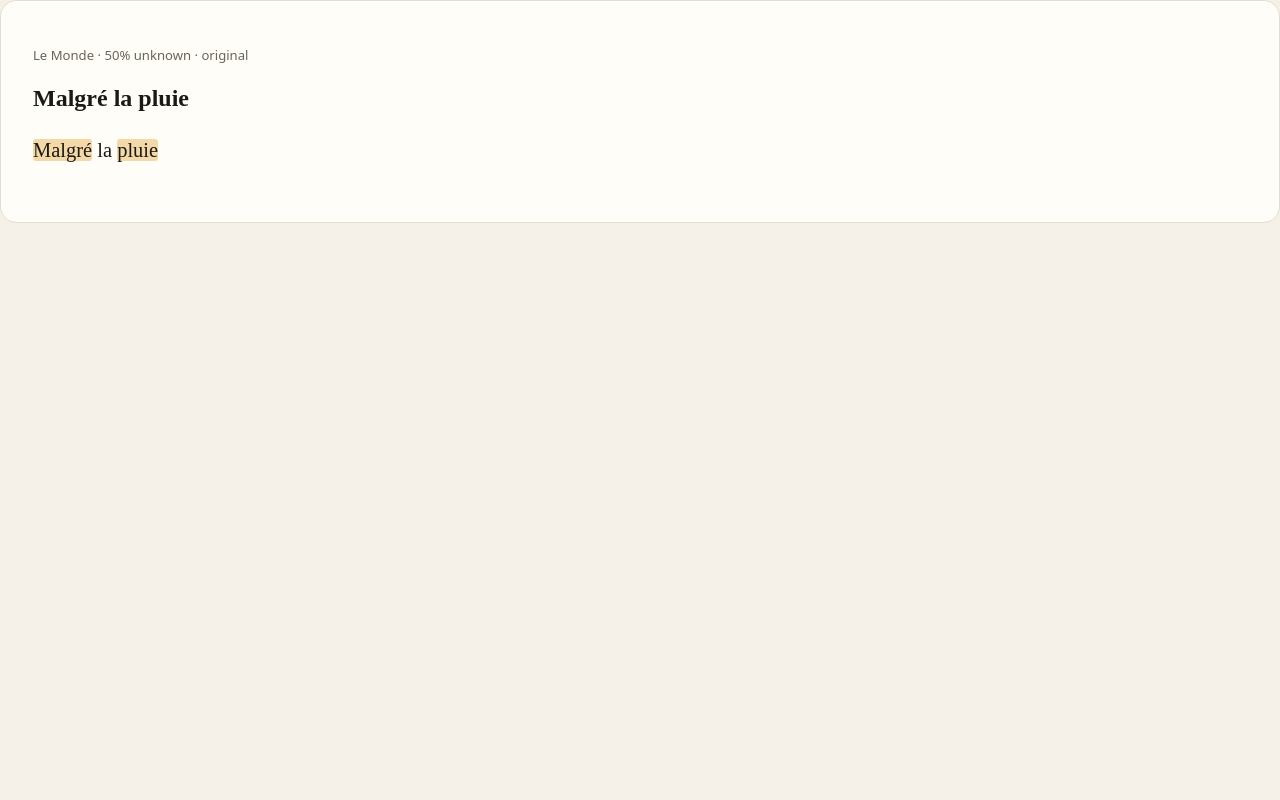
Test: the unknown percentage is refreshed after a save
Expected: the text "Le Monde · 50% unknown · original" is shown, [33, 46, 248, 64]
Click the text "Malgré" at (63, 150), box [33, 139, 92, 161]
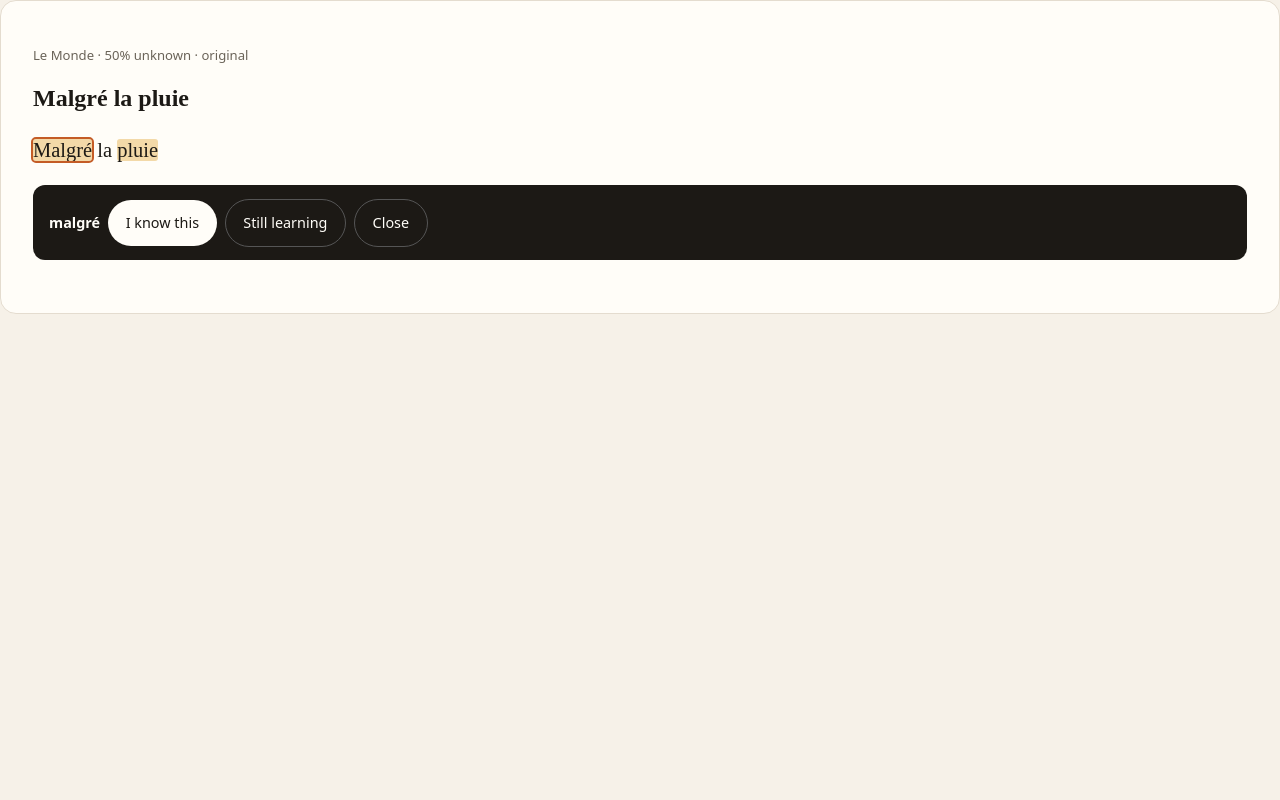
Click the button "I know this" at (162, 223), box [108, 200, 217, 246]
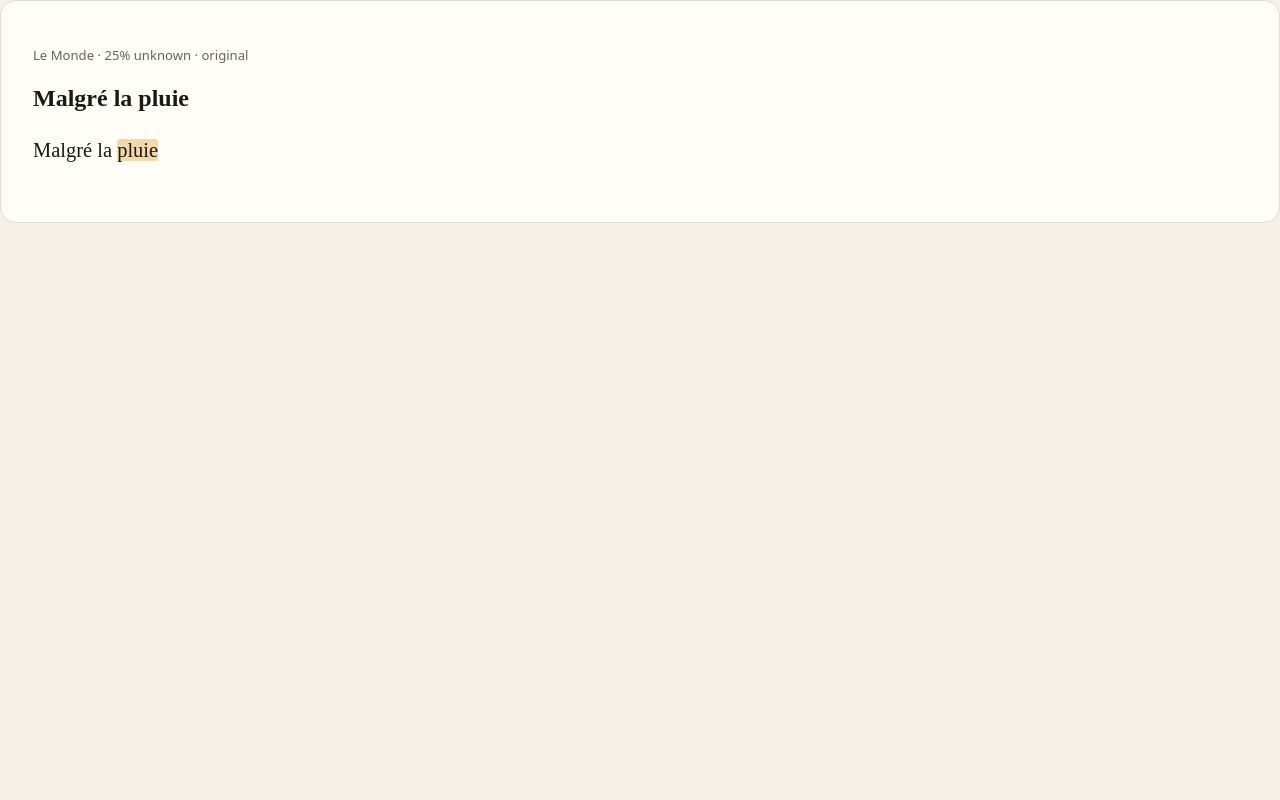
Expected: the text "Le Monde · 25% unknown · original" is shown, [33, 46, 248, 64]
